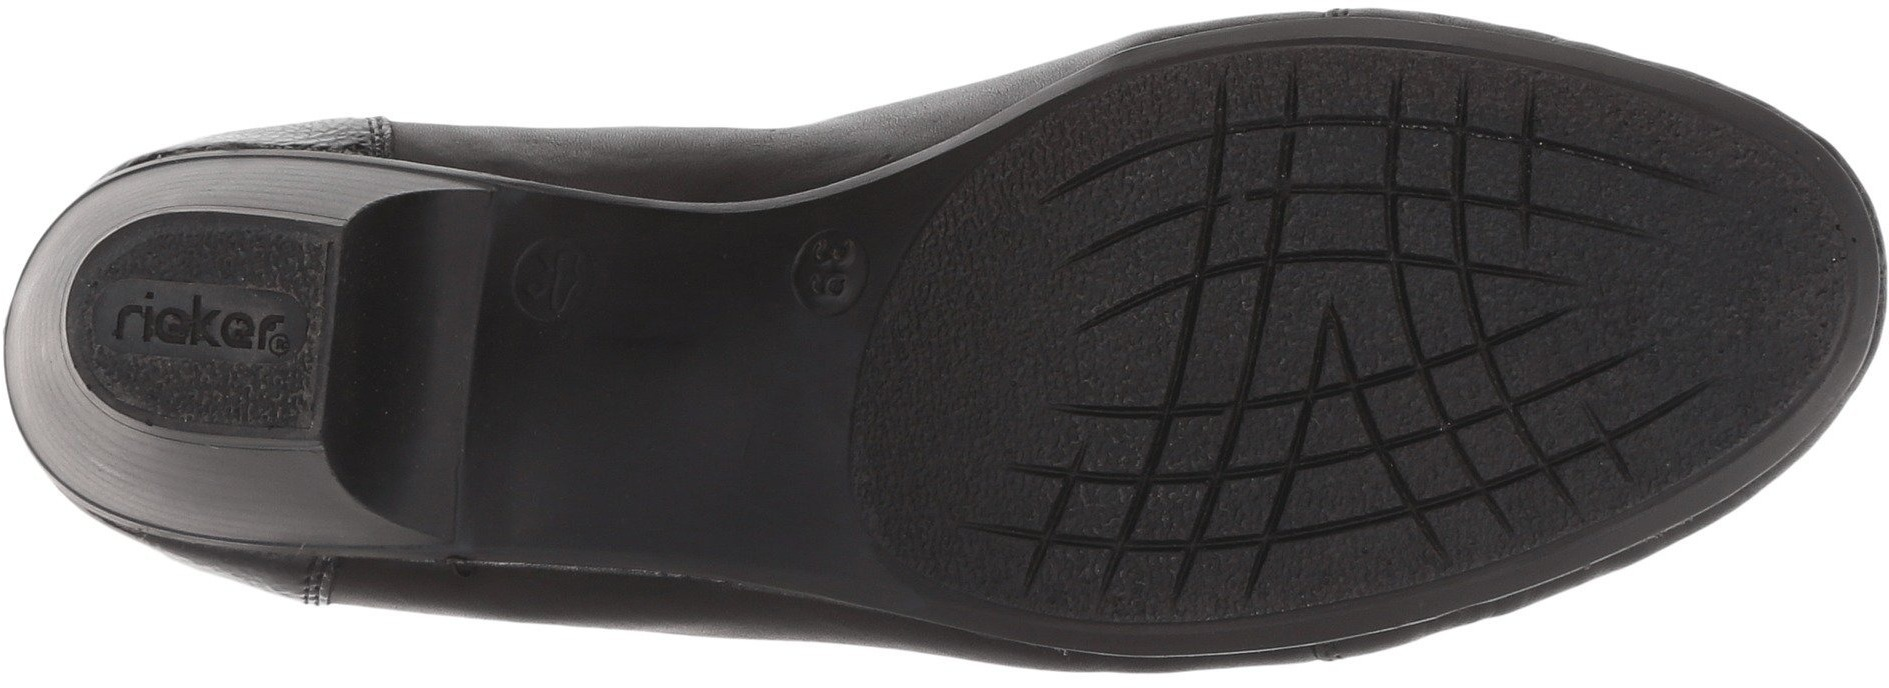circle: (98, 283, 304, 377), (776, 214, 879, 324)
other: (877, 304, 1063, 465)
quad: (1071, 370, 1313, 610), (1390, 293, 1605, 506), (1179, 73, 1391, 276), (1412, 87, 1585, 252)
text: (98, 283, 304, 377), (776, 214, 879, 324), (195, 298, 282, 375), (120, 282, 189, 361), (798, 243, 863, 321)
triangle: (1293, 293, 1370, 413)
